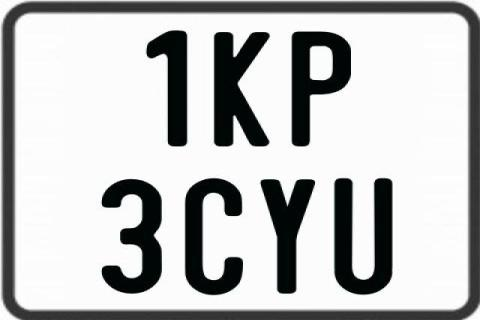0: (102, 178, 164, 298), (143, 31, 185, 147)
C: (183, 178, 241, 298)
K: (212, 31, 271, 146)
P: (292, 29, 354, 148)
U: (333, 178, 392, 298)
Y: (258, 178, 314, 292)
